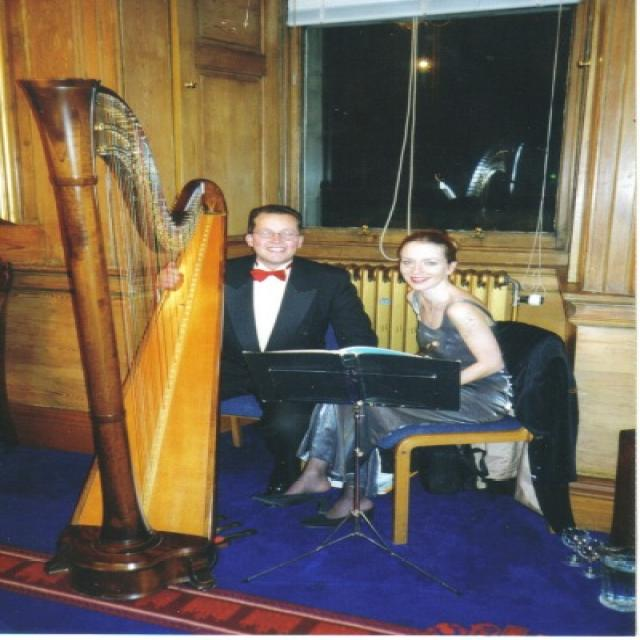harp: (20, 72, 235, 598)
